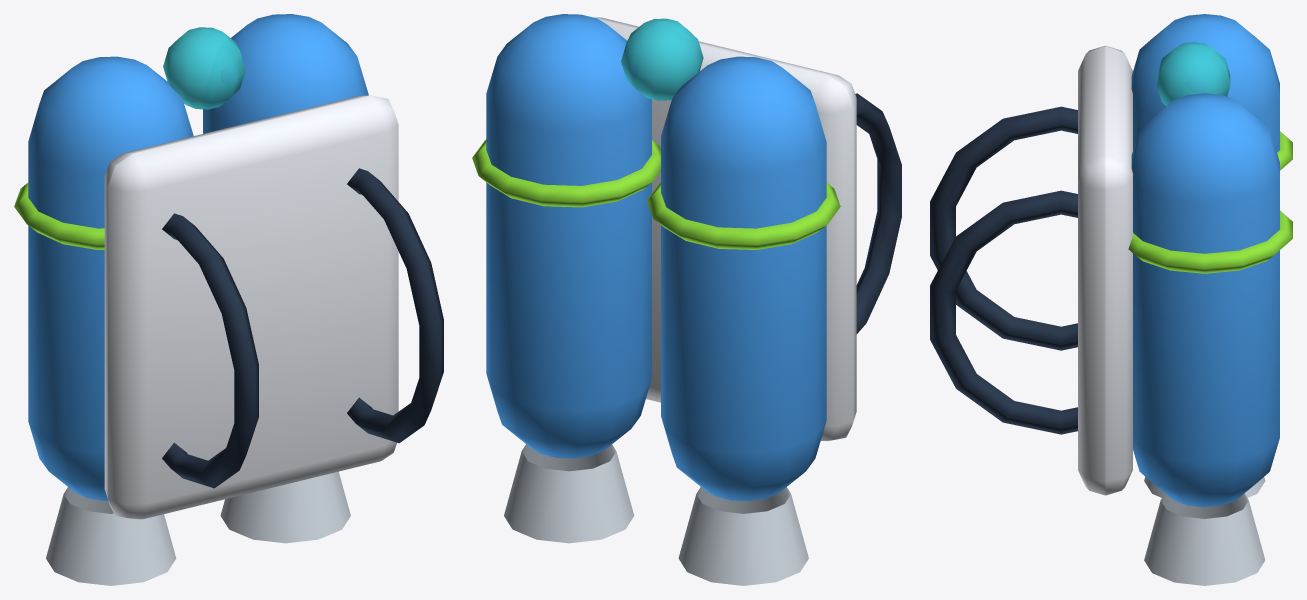
File: Jetpack.fbx
3 views of the same model, side by side, from view 1: azimuth 30°, elevation 25°; view 2: azimuth 150°, elevation 25°; view 3: azimuth 270°, elevation 25° (orthographic). The views are drawn at different scales.
Visible parts, largest first — view 1: Jetpack; view 2: Jetpack; view 3: Jetpack.
Boxes of the visible parts, x1,y1,x2,y2 form: Jetpack: [14, 14, 443, 585]; Jetpack: [472, 14, 901, 585]; Jetpack: [930, 14, 1292, 585].
Size of the model in its own units: 0.334 by 0.481 by 0.3289.
